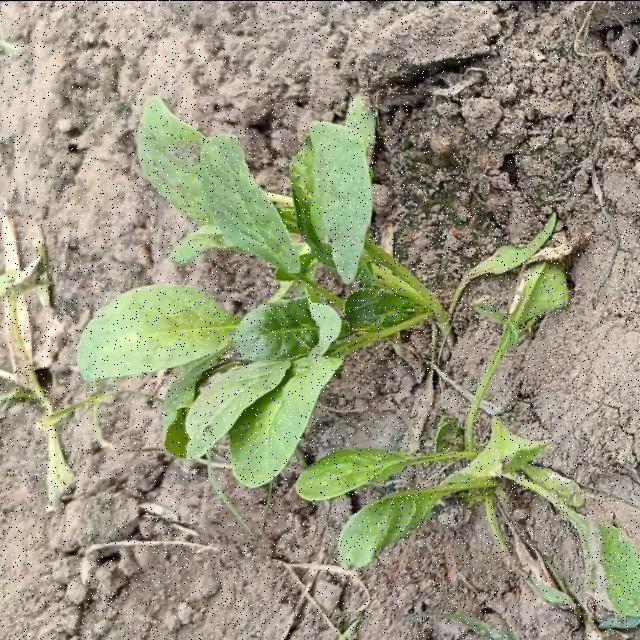plant: (77, 96, 453, 486), (77, 96, 452, 486), (298, 213, 640, 616), (298, 213, 639, 616)
